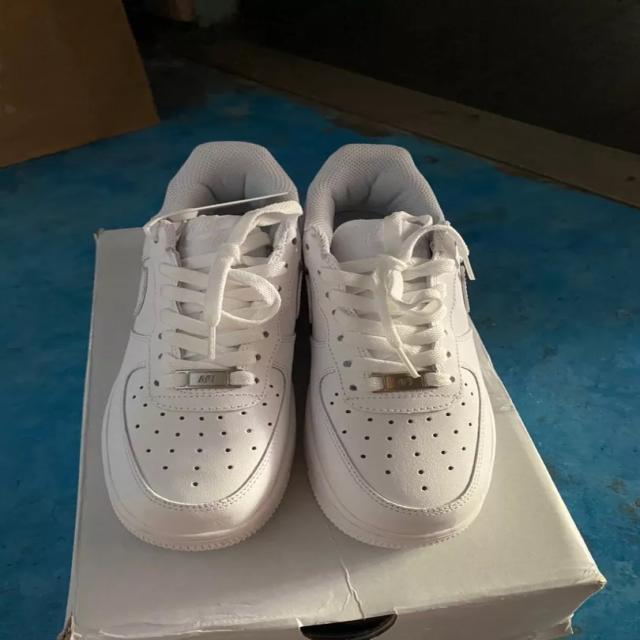nike original air force: (97, 127, 310, 560), (296, 138, 504, 554)
